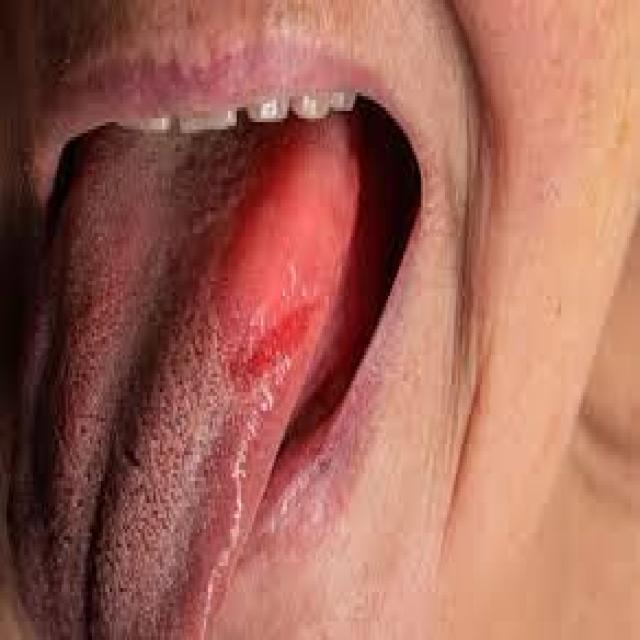right_region: (9, 104, 408, 636)
